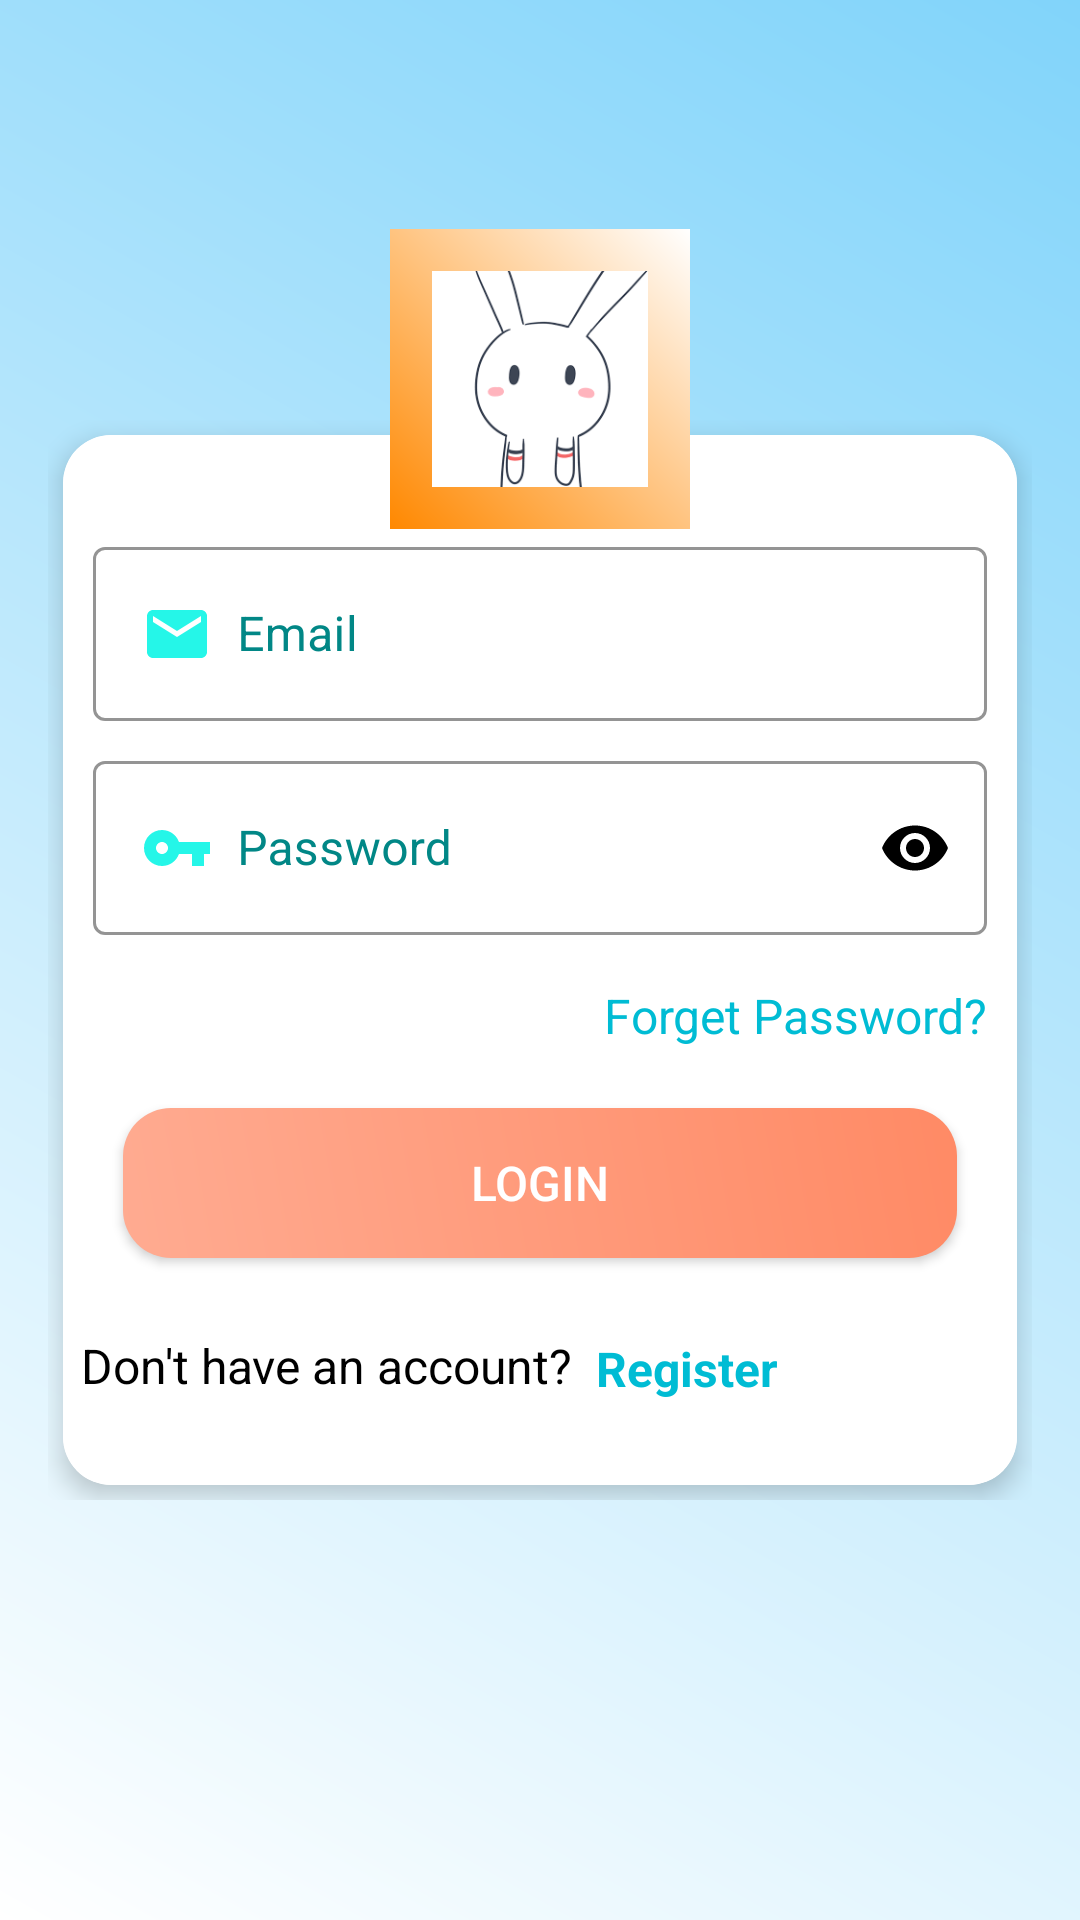

Screen size 1080×1920. Icon name, then its center in pixels as (x=x, y=y):
profile: (x=540, y=379)
